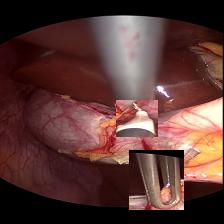Grasper: (129, 149, 184, 209)
Hook: (116, 99, 158, 136)
